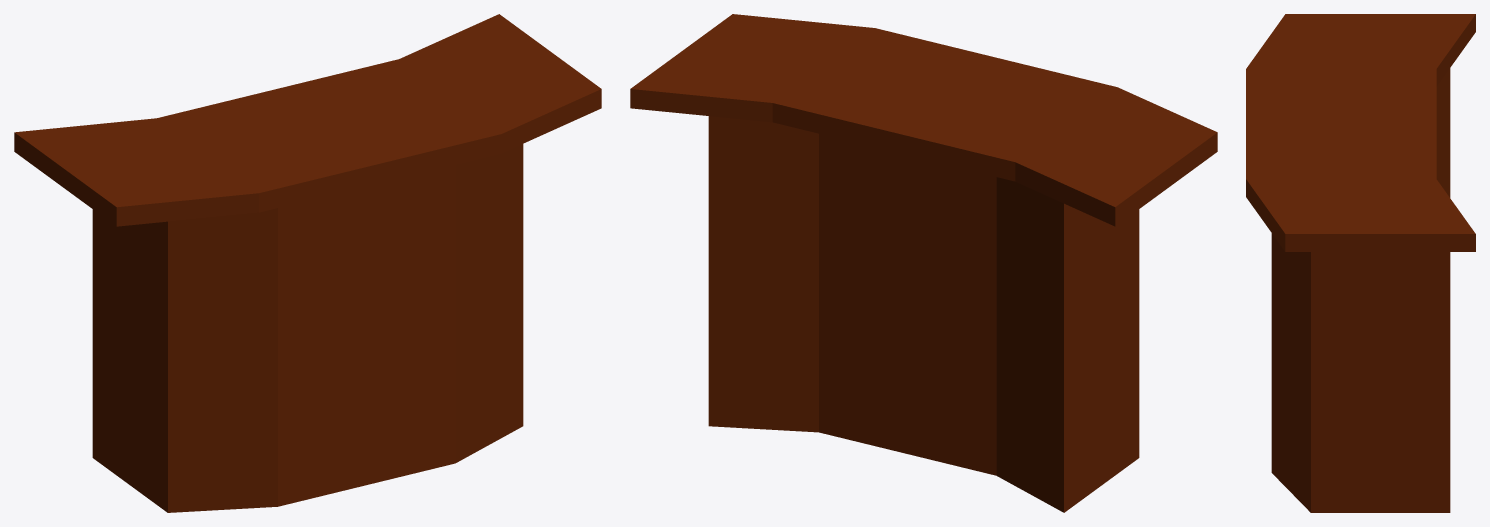
Rendered from Counter.fbx.
3 renders of one model, left to right at view 1: azimuth 30°, elevation 25°; view 2: azimuth 150°, elevation 25°; view 3: azimuth 270°, elevation 25°, orthographic. The views are drawn at different scales.
Parts seen in each view (by area): view 1: Cube; view 2: Cube; view 3: Cube.
Part boxes in pixels (x1,y1,x2,y2): Cube: (14, 14, 601, 512); Cube: (630, 14, 1217, 512); Cube: (1246, 14, 1475, 512).
Size of the model in its own units: 746 by 329 by 488.
